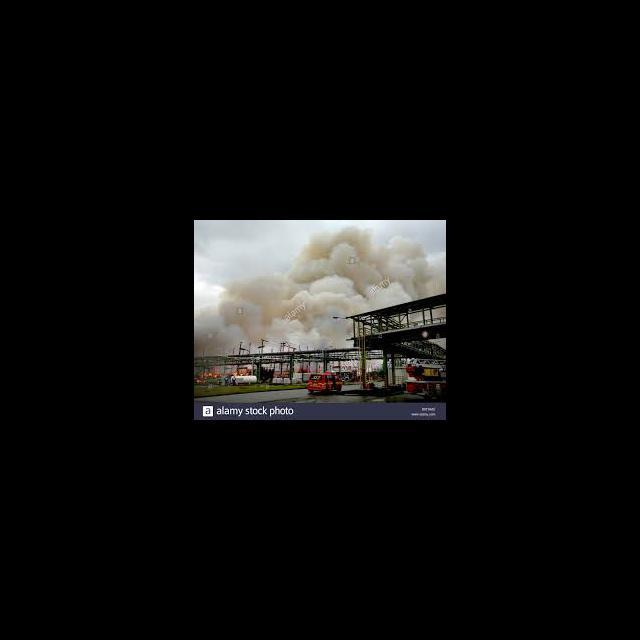Smoke: (361, 230, 437, 278), (302, 232, 344, 276), (226, 278, 281, 308), (286, 262, 325, 298), (326, 278, 360, 312), (220, 315, 266, 338), (300, 315, 334, 342), (268, 324, 301, 338), (392, 280, 416, 298)
